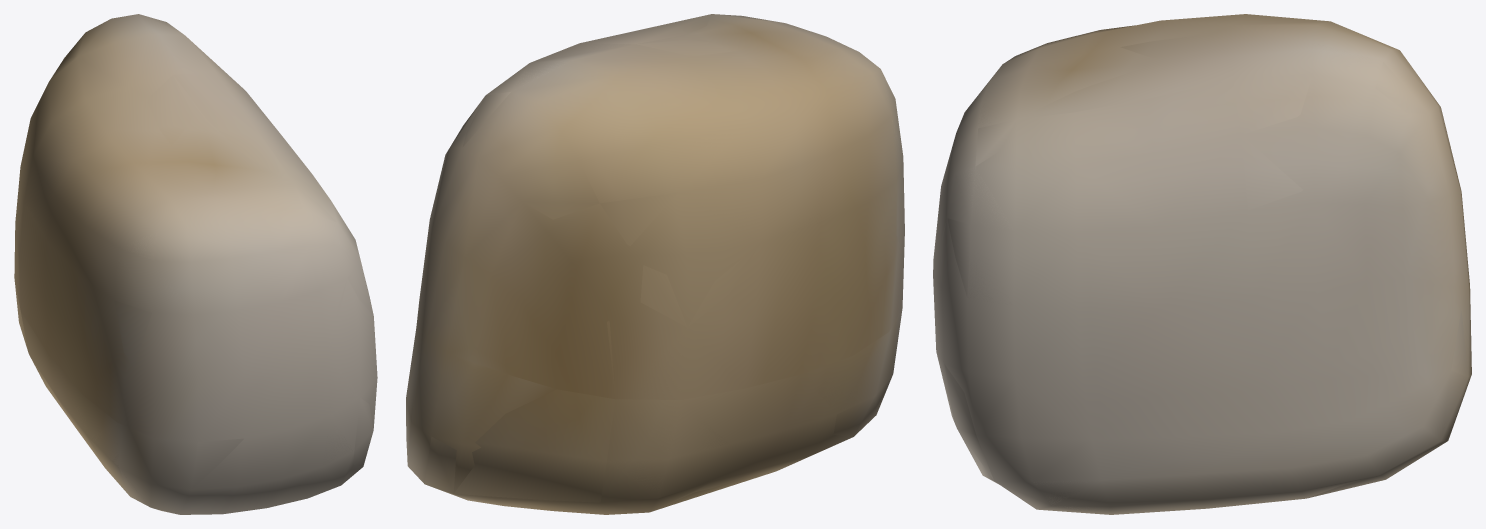
The model's file is L carpi intermedium.fbx.
3 renders of one model, left to right at view 1: azimuth 30°, elevation 25°; view 2: azimuth 150°, elevation 25°; view 3: azimuth 270°, elevation 25°, orthographic. The views are drawn at different scales.
Parts seen in each view (by area): view 1: L carpi intermedium, L carpi intermedium low; view 2: L carpi intermedium, L carpi intermedium low; view 3: L carpi intermedium, L carpi intermedium low.
Boxes of the visible parts, bbox=[...] form: L carpi intermedium: bbox=[14, 14, 377, 514]; L carpi intermedium low: bbox=[15, 17, 373, 505]; L carpi intermedium: bbox=[406, 14, 904, 514]; L carpi intermedium low: bbox=[406, 14, 903, 511]; L carpi intermedium: bbox=[933, 14, 1471, 514]; L carpi intermedium low: bbox=[934, 35, 1468, 513].
Size of the model in its own units: 0.7779 by 1.07 by 1.2.
